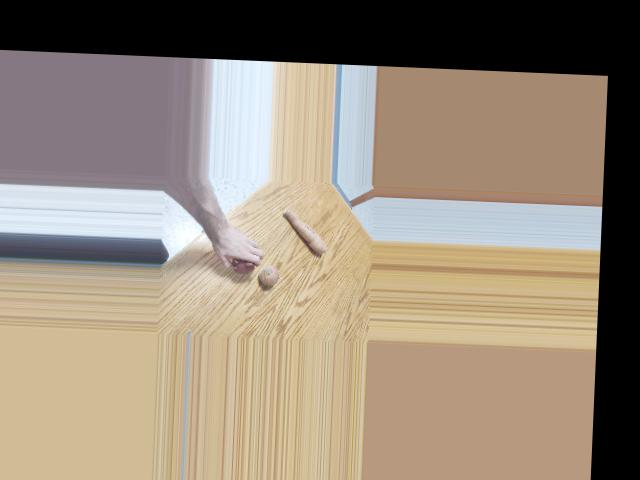onion: (257, 265, 277, 282)
